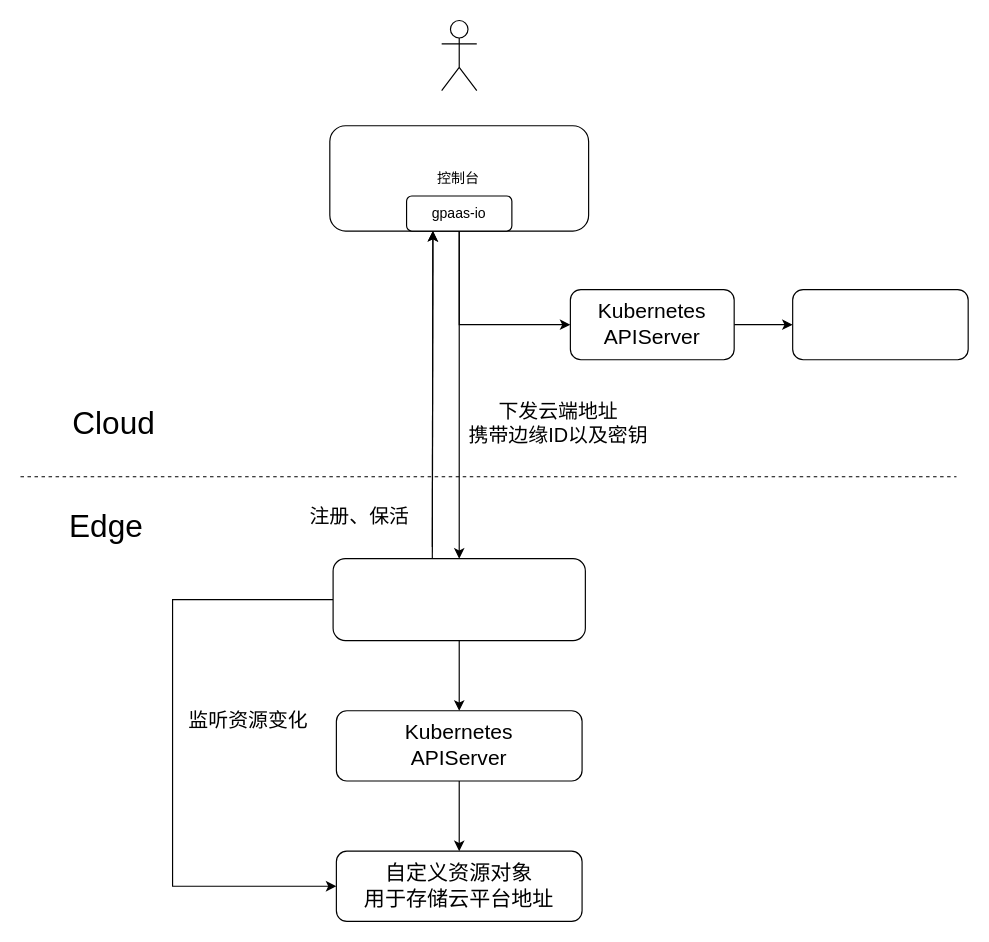
Some shapes in this 989 by 942 pixel diagram are drawn without their labels. The shapes that lost their labels are listed below. From the top down, each one's centre as x and y in pixels, then its label:
At [459,55]: "Actor".
At [880,324]: "自定义资源对象 用于存储纳管的边缘信息".
At [458,599]: "gpass-io".
